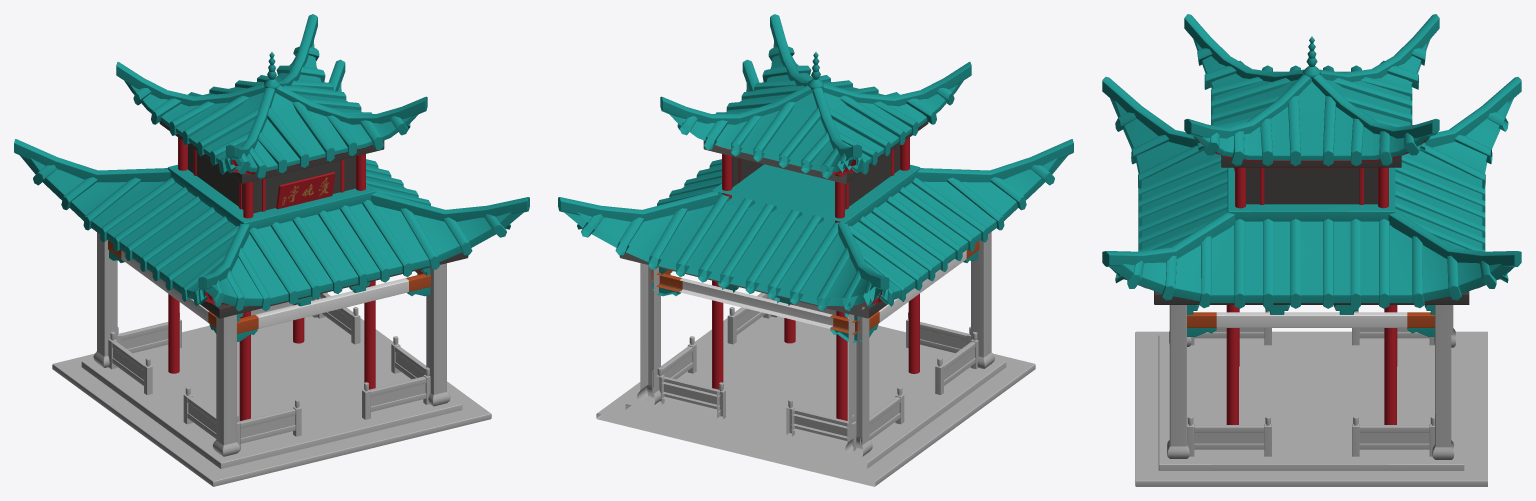
File: AiWanTin.fbx
The picture shows the model from 3 angles, left to right: view 1: azimuth 30°, elevation 25°; view 2: azimuth 150°, elevation 25°; view 3: azimuth 270°, elevation 25°; orthographic projection. The views are drawn at different scales.
Parts seen in each view (by area): view 1: AiWanTin; view 2: AiWanTin; view 3: AiWanTin.
Boxes of the visible parts, x1,y1,x2,y2 form: AiWanTin: (14, 14, 529, 486); AiWanTin: (558, 14, 1073, 486); AiWanTin: (1102, 14, 1521, 486).
Size of the model in its own units: 169 by 167 by 169.
Materials: 1 (1 with a texture image).
